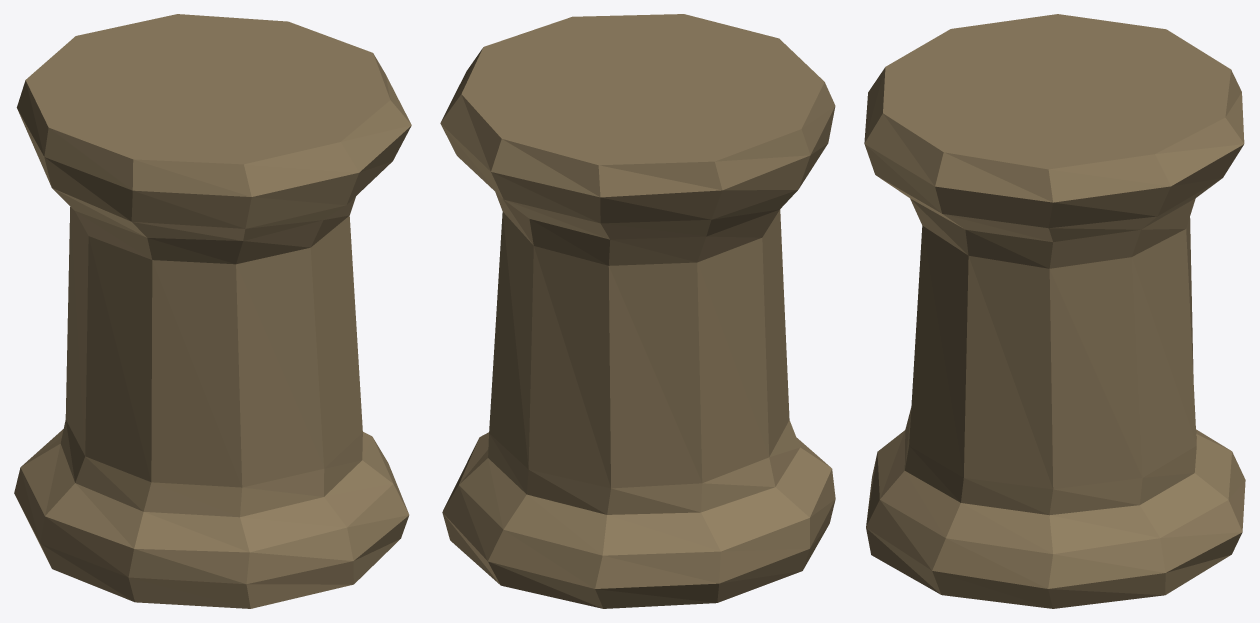
Rendered from ruin_pillar.obj.
3 views of the same model, side by side, from view 1: azimuth 30°, elevation 25°; view 2: azimuth 150°, elevation 25°; view 3: azimuth 270°, elevation 25° (orthographic).
Visible parts, largest first — view 1: WeatheredRuinPillar; view 2: WeatheredRuinPillar; view 3: WeatheredRuinPillar.
Boxes of the visible parts, x1,y1,x2,y2 form: WeatheredRuinPillar: (14, 14, 411, 608); WeatheredRuinPillar: (440, 14, 835, 608); WeatheredRuinPillar: (864, 14, 1245, 608).
Bounding box in the file's own units: 1.65 × 2.02 × 1.59.
